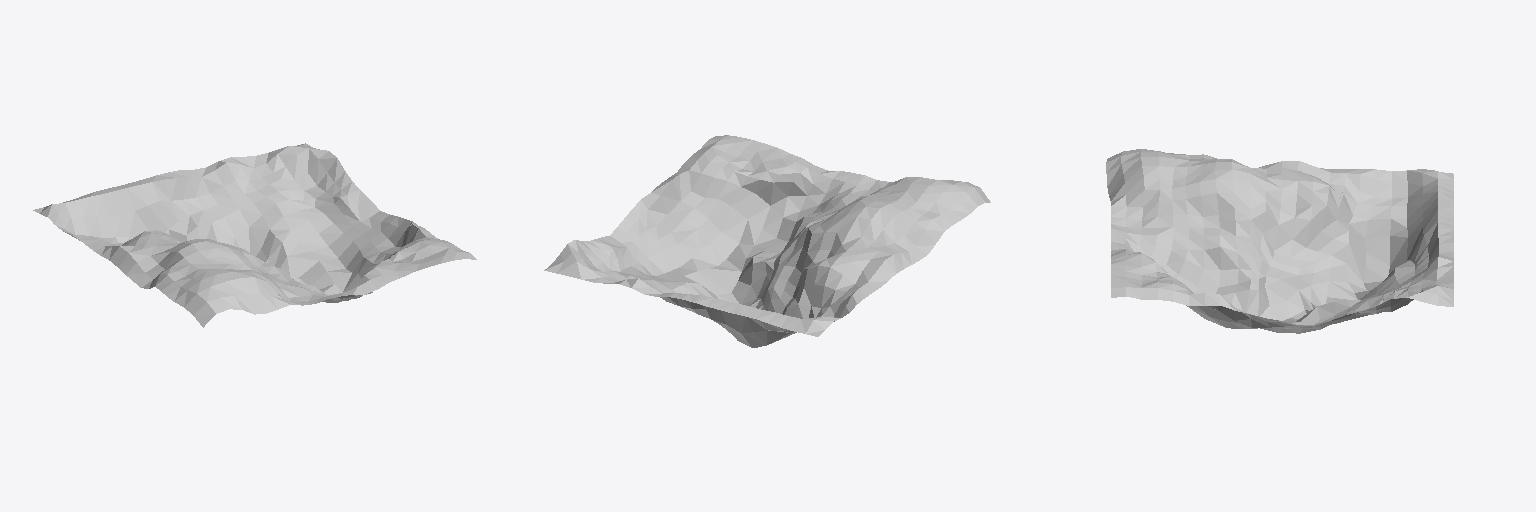
File: terrain.obj
The picture shows the model from 3 angles: view 1: azimuth 30°, elevation 25°; view 2: azimuth 150°, elevation 25°; view 3: azimuth 270°, elevation 25°; orthographic projection.
Parts seen in each view (by area): view 1: Cube; view 2: Cube; view 3: Cube.
Part boxes in pixels (x1,y1,x2,y2): Cube: (33, 143, 476, 327); Cube: (544, 135, 990, 347); Cube: (1106, 149, 1453, 333).
Bounding box in the file's own units: 11.02 × 3.8 × 11.64.